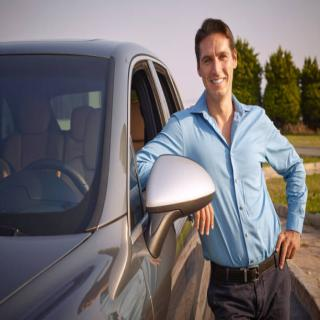Normal_vehicle: (1, 34, 204, 315)
